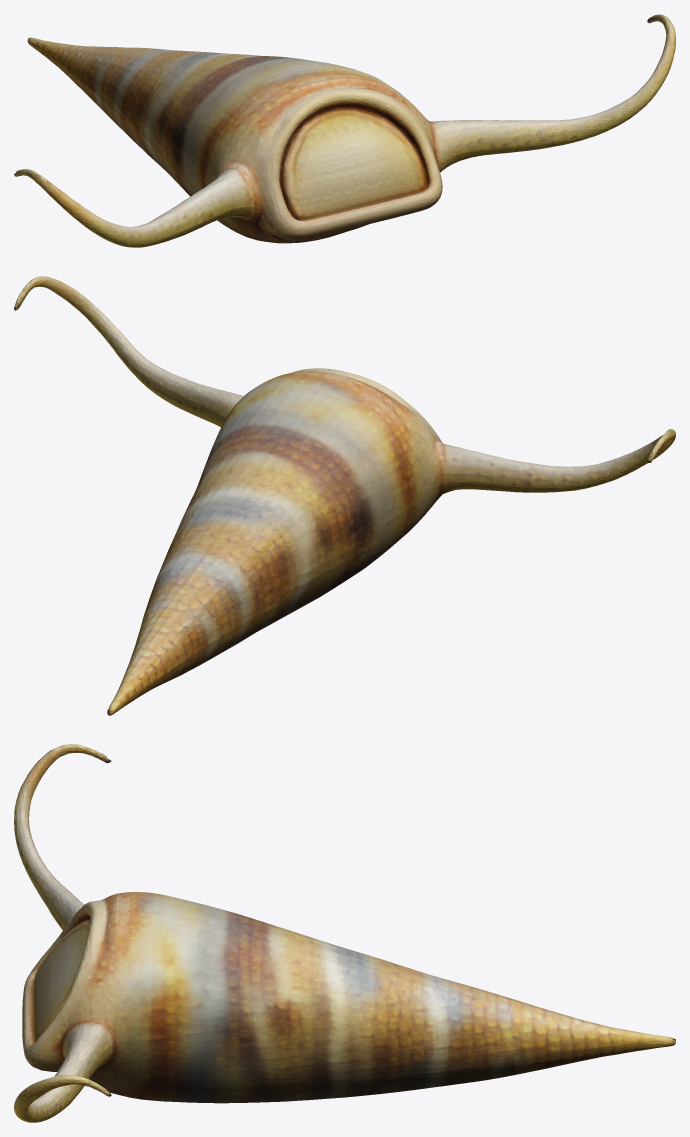
3 renders of one model, top to bottom at view 1: azimuth 30°, elevation 25°; view 2: azimuth 150°, elevation 25°; view 3: azimuth 270°, elevation 25°, orthographic. The views are drawn at different scales.
Parts seen in each view (by area): view 1: world; view 2: world; view 3: world.
Boxes of the visible parts, x1=… form: world: x1=14, y1=14, x2=675, y2=247; world: x1=14, y1=276, x2=675, y2=715; world: x1=14, y1=744, x2=675, y2=1122.
Bounding box in the file's own units: 0.05 × 0.0132 × 0.0418.
Materials: 1 (1 with a texture image).
